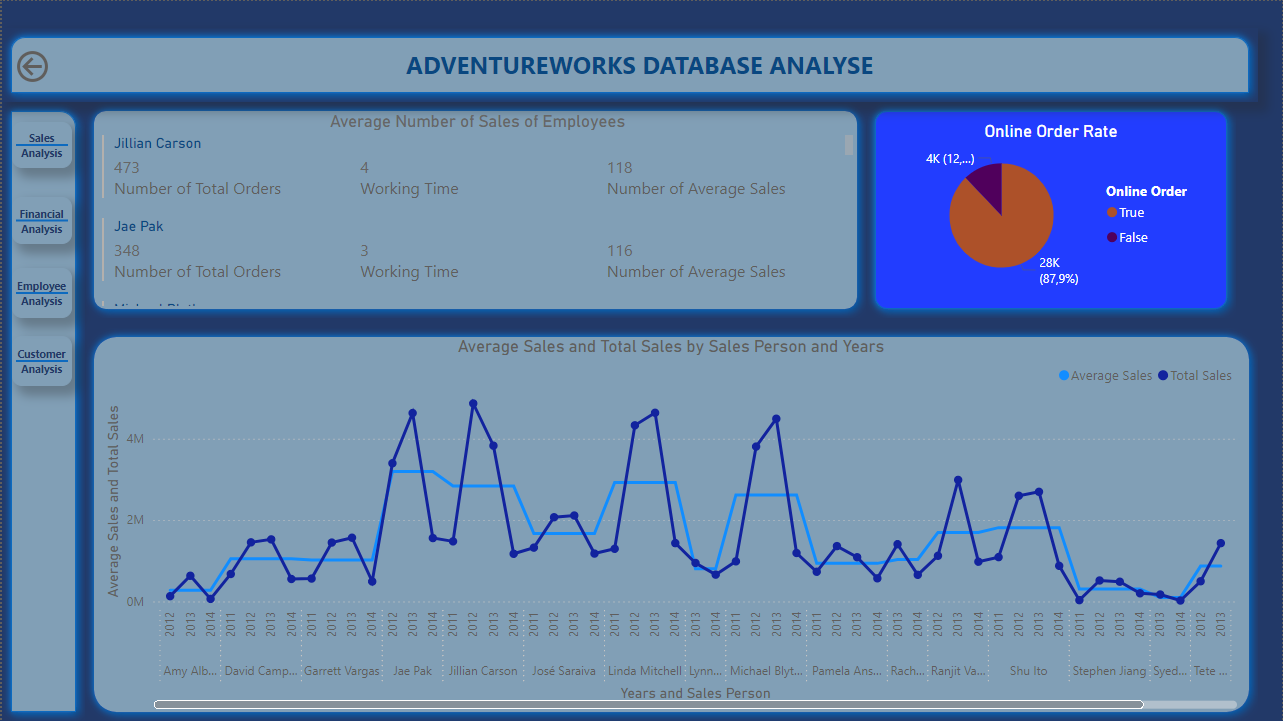

The dashboard page shown, as its layout file describes it:
{"tool":"powerbi","page":{"name":"EmployeePerformanceAnalysis","canvas":[1280,720],"ordinal":2},"visuals":[{"type":"shape","box":[82.7,101,781.7,216.3],"z":0},{"type":"shape","box":[864.4,101,369.2,216.3],"z":1000},{"type":"shape","box":[82.7,326.9,1173.1,393.3],"z":2000},{"type":"lineChart","title":"Average Sales and Total Sales by Sales Person and Years","fields":{"Category":["ÇalışanlarınOrtalamaVeYıllıkSatışları.salesperson","ÇalışanlarınOrtalamaVeYıllıkSatışları.years"],"Y":["ÇalışanlarınOrtalamaVeYıllıkSatışları.averagesales","ÇalışanlarınOrtalamaVeYıllıkSatışları.totalsales"]},"box":[98.1,334.6,1142.3,377.9],"z":3000},{"type":"pieChart","title":"Online Order Rate","fields":{"Category":["OnlineAlışverişOranı.onlineorderflag"],"Y":["OnlineAlışverişOranı.totalsales"]},"box":[890.4,120.2,317.3,170.2],"z":4000},{"type":"shape","box":[0,100.8,82.7,619.2],"z":5000},{"type":"shape","box":[0,26.9,1255.8,74],"z":6000},{"type":"textbox","box":[399,42.3,481.7,43.3],"z":7000},{"type":"actionButton","box":[9.6,45.2,100,40.4],"z":8000},{"type":"multiRowCard","title":"Average Number of Sales of Employees","fields":{"Values":["OrtalamaSatışSayısınaGöreÇalışanlar.salesperson","OrtalamaSatışSayısınaGöreÇalışanlar.totalorders","OrtalamaSatışSayısınaGöreÇalışanlar.workingtime","OrtalamaSatışSayısınaGöreÇalışanlar.averagesales"]},"box":[95.2,109.6,760.6,200],"z":12000},{"type":"shape","box":[9.7,334.6,60.3,50.6],"z":13000},{"type":"shape","box":[9.7,267.5,60.3,49.6],"z":14000},{"type":"shape","box":[9.7,195.5,60.3,47.7],"z":15000},{"type":"shape","box":[9.7,120.6,60.3,46.7],"z":15001}]}

Visuals, with their boxes in screenshot pixels (x1, y1, x2, y2), scaled from the page's 1280x720 canvas onto the 1283x721 screenshot:
shape: l=83, t=101, r=866, b=318
shape: l=866, t=101, r=1236, b=318
shape: l=83, t=327, r=1259, b=720
"Average Sales and Total Sales by Sales Person and Years" lineChart: l=98, t=335, r=1243, b=713
"Online Order Rate" pieChart: l=892, t=120, r=1211, b=291
shape: l=0, t=101, r=83, b=720
shape: l=0, t=27, r=1259, b=101
textbox: l=400, t=42, r=883, b=86
actionButton: l=10, t=45, r=110, b=86
"Average Number of Sales of Employees" multiRowCard: l=95, t=110, r=858, b=310
shape: l=10, t=335, r=70, b=386
shape: l=10, t=268, r=70, b=318
shape: l=10, t=196, r=70, b=244
shape: l=10, t=121, r=70, b=168
